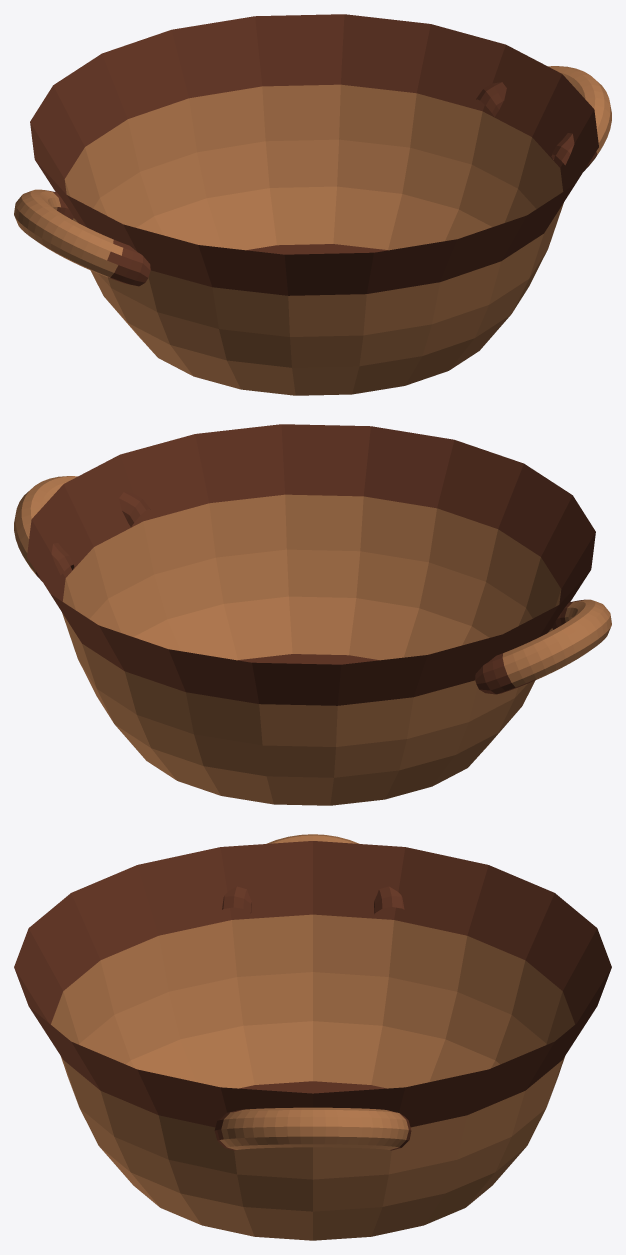
The model's file is cazo.gltf.
The picture shows the model from 3 angles, top to bottom: view 1: azimuth 30°, elevation 25°; view 2: azimuth 150°, elevation 25°; view 3: azimuth 270°, elevation 25°; orthographic projection. The views are drawn at different scales.
Parts seen in each view (by area): view 1: Torus.001; view 2: Torus.001; view 3: Torus.001.
Part boxes in pixels (<box>): Torus.001: <box>14,14,611,395</box>; Torus.001: <box>14,424,611,805</box>; Torus.001: <box>14,834,611,1240</box>.
Bounding box in the file's own units: 4.69 × 1.46 × 4.07.
